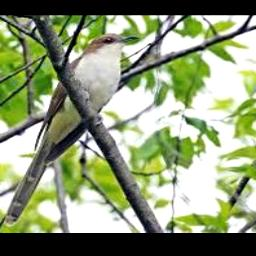Cuckoo: (5, 34, 141, 226)
